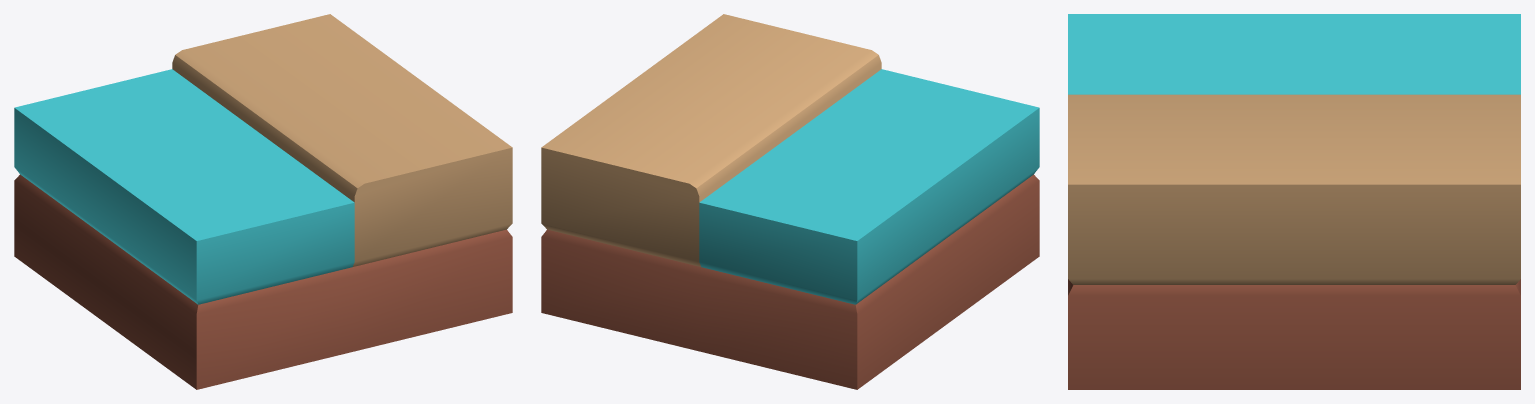
The model's file is square_sand_waterStraight.glb.
3 views of the same model, side by side, from view 1: azimuth 30°, elevation 25°; view 2: azimuth 150°, elevation 25°; view 3: azimuth 270°, elevation 25° (orthographic). The views are drawn at different scales.
Visible parts, largest first — view 1: square_sand_waterStraight; view 2: square_sand_waterStraight; view 3: square_sand_waterStraight.
Boxes of the visible parts, x1,y1,x2,y2 form: square_sand_waterStraight: (14,14,512,389); square_sand_waterStraight: (541,14,1039,389); square_sand_waterStraight: (1068,14,1520,389).
Bounding box in the file's own units: 2 × 1 × 2.
